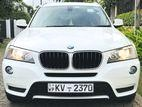car: (2, 3, 140, 105)
